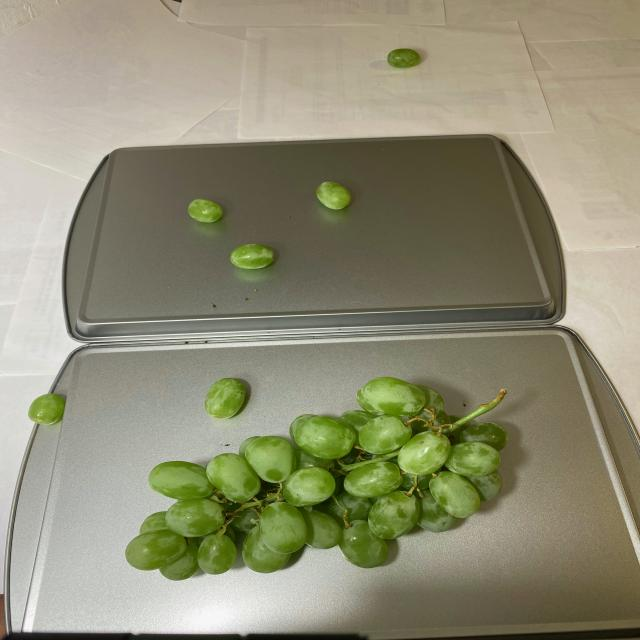grapes: (124, 374, 505, 581), (191, 179, 358, 276)
